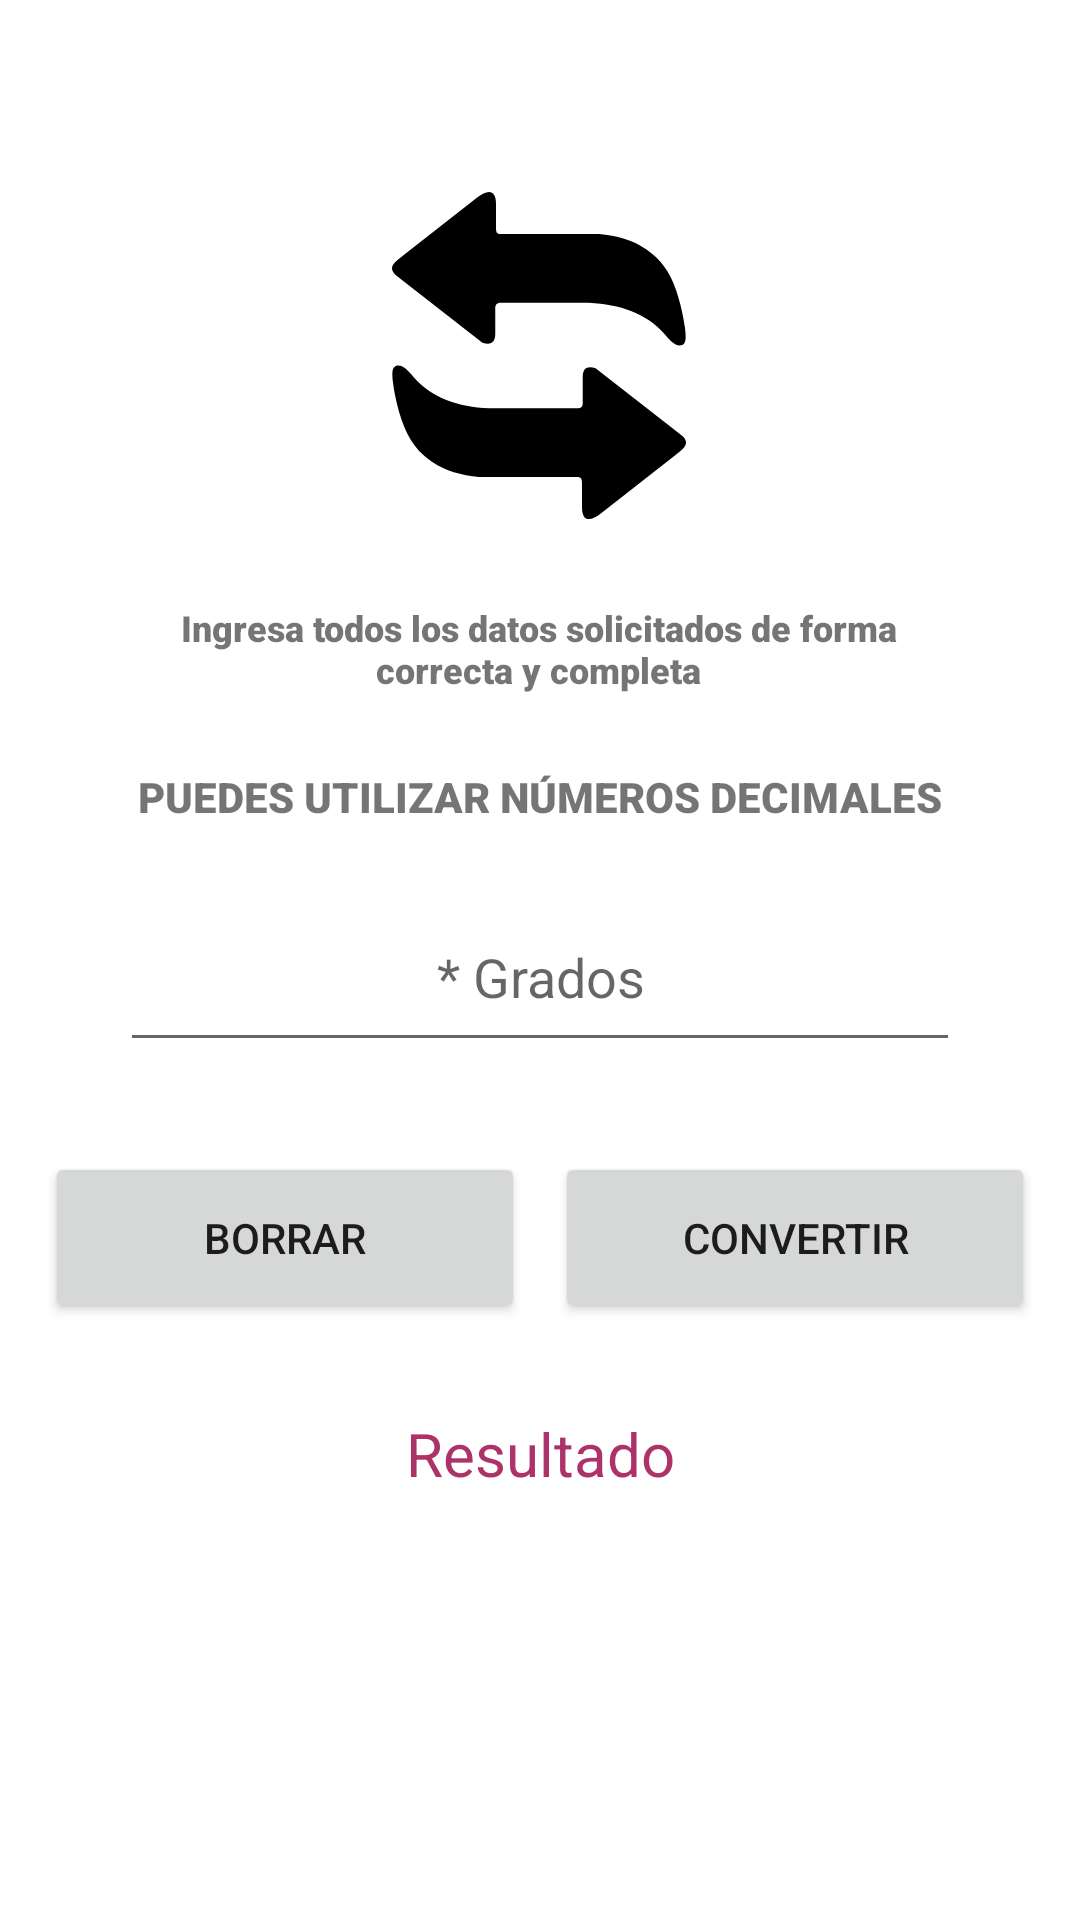

Icons on this 1080 × 1920 Android screen, each with the point to tap as (x=x, y=y):
convertir: (x=539, y=355)
